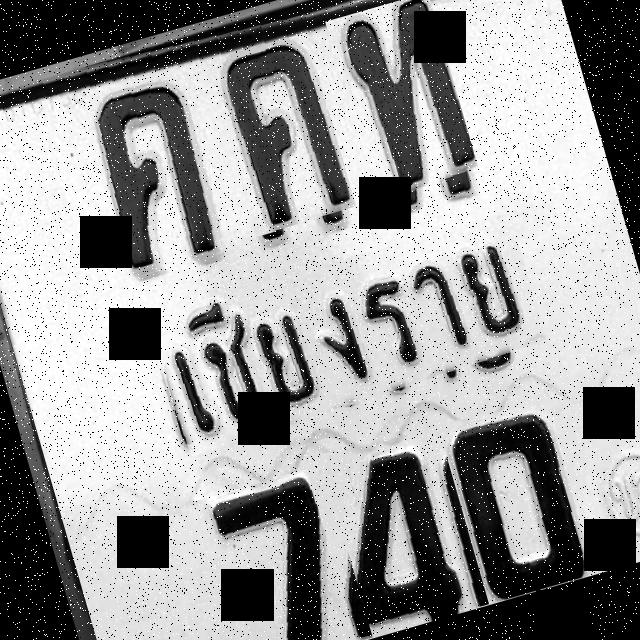letters: (438, 392, 598, 604), (320, 424, 477, 638), (198, 32, 356, 238), (80, 64, 232, 278), (325, 0, 480, 202), (179, 468, 356, 640)
license-plate: (0, 0, 640, 640)
province: (142, 211, 550, 458)
